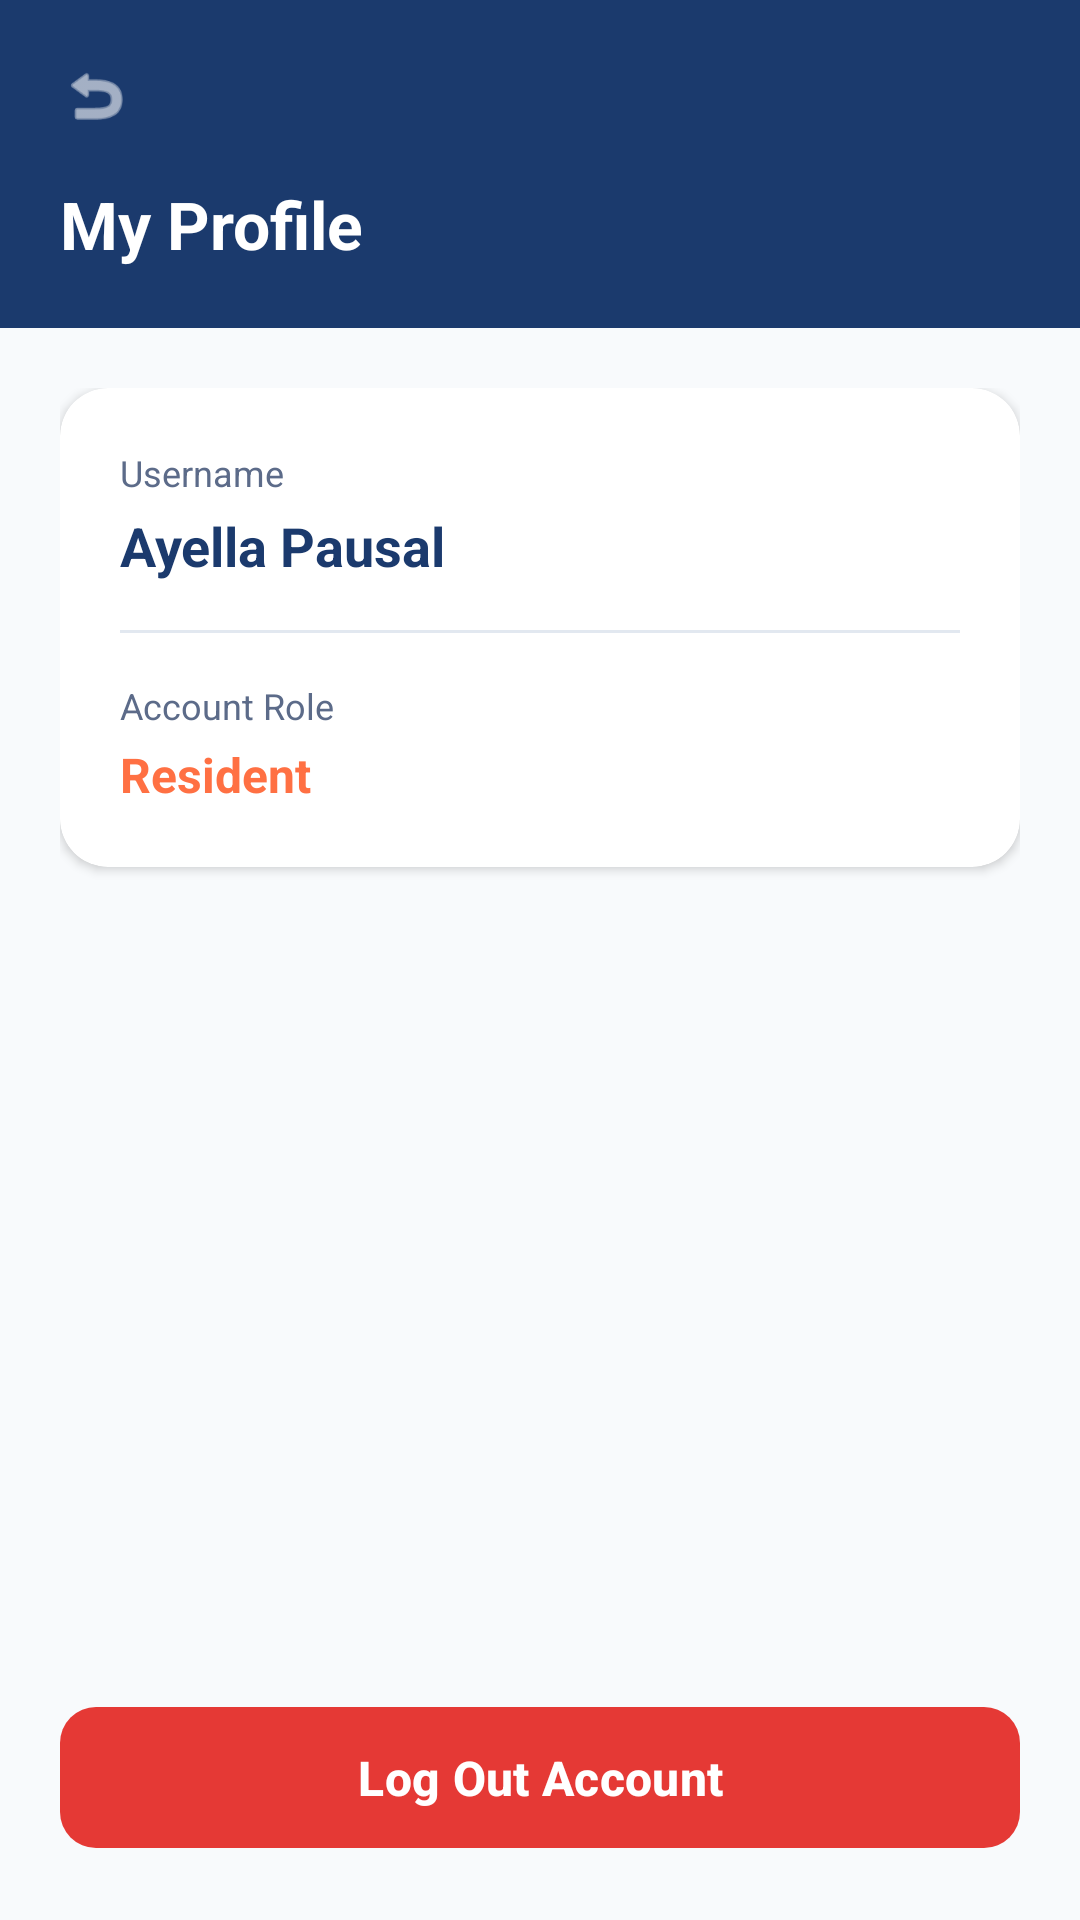

Screen size 1080 × 1920. Icon name, then its center in pixels as [x,y]:
revert: [97,96]
